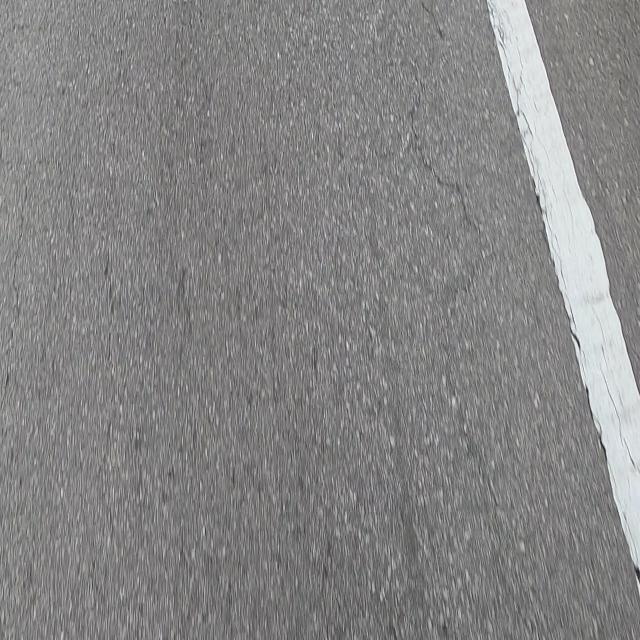Retak-Memanjang: (406, 0, 498, 514), (530, 178, 580, 353), (583, 387, 610, 472)
